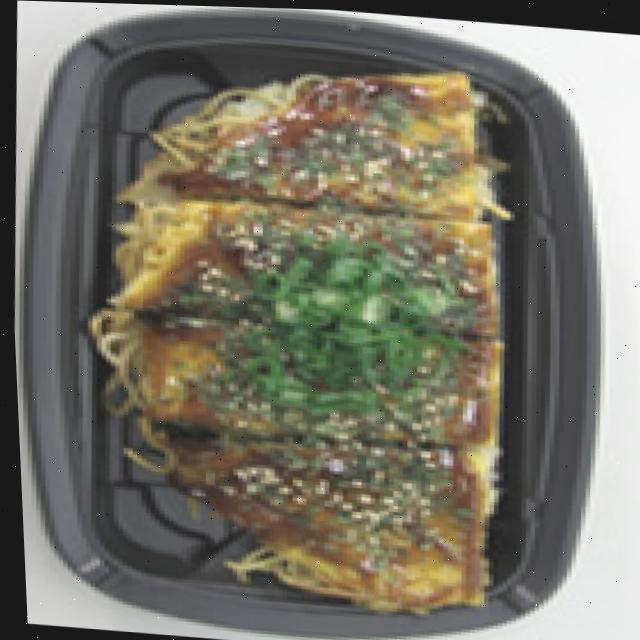蛋糕甜品: (93, 51, 528, 619)
